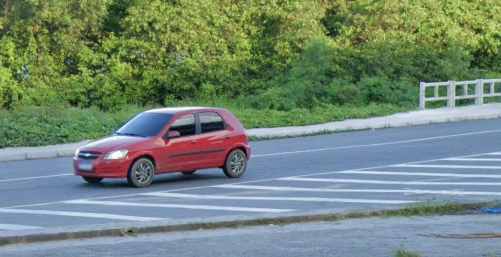car: (70, 104, 259, 192)
